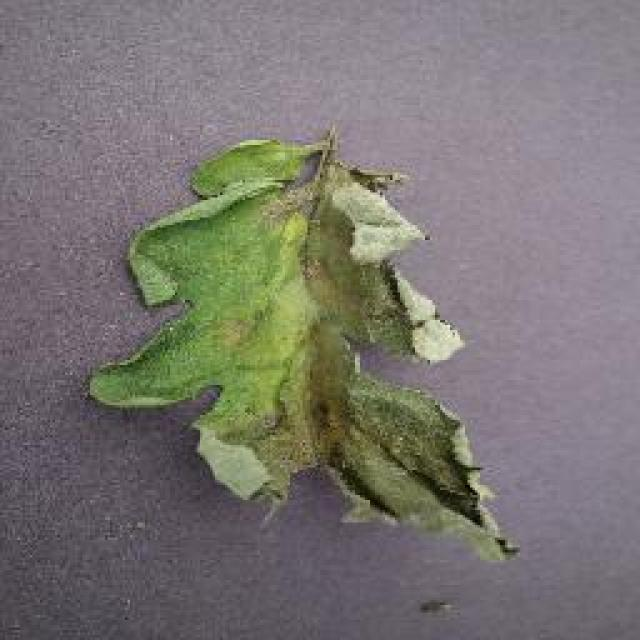Tomato Late Blight: (245, 135, 497, 572)
